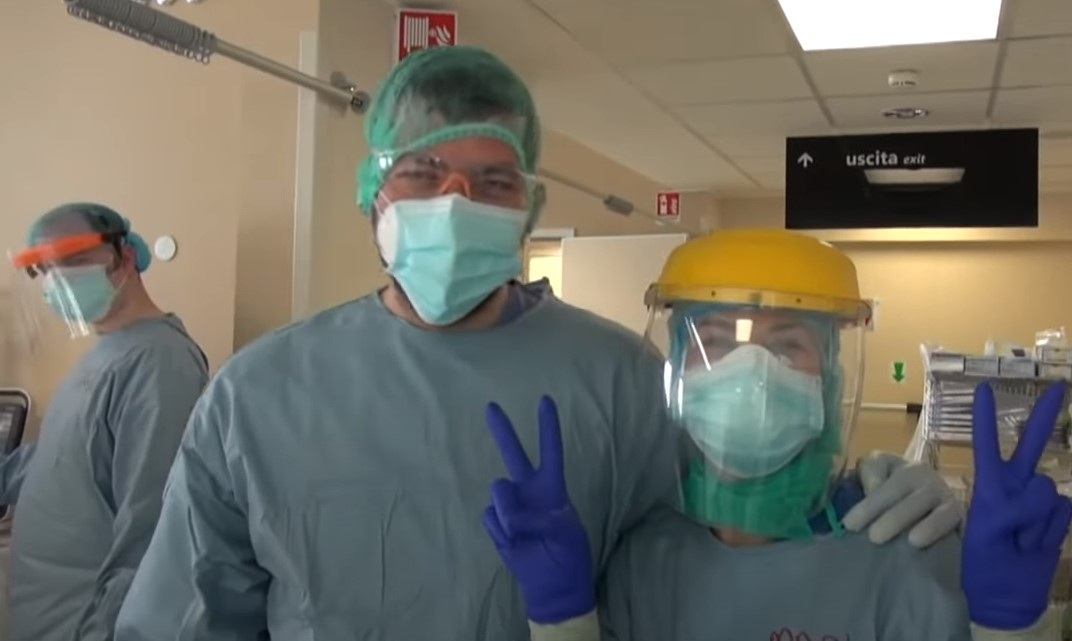face_with_mask: (358, 57, 543, 328), (654, 279, 852, 518), (21, 207, 134, 335)
